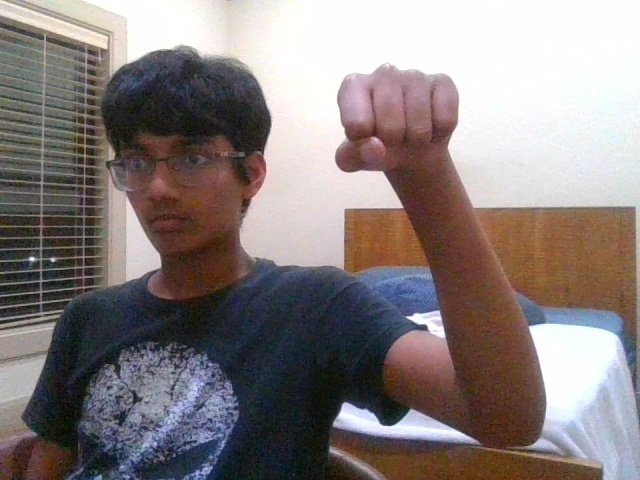yes: (335, 64, 458, 171)
